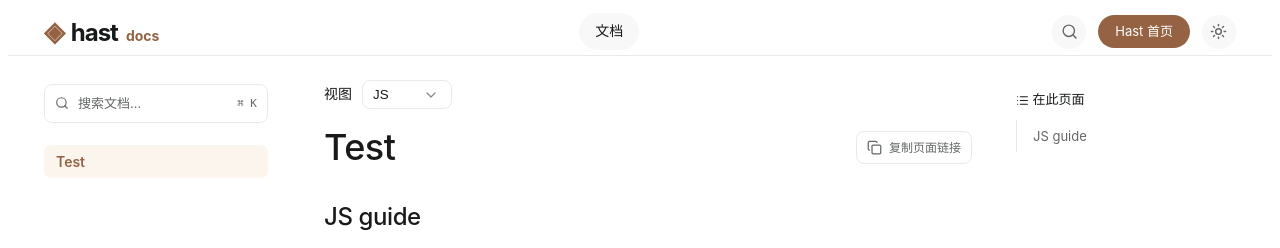
Scenario: frontend documentation behavior › automatically selects standalone views, hides duplicates and refreshes the TOC
Select "Python" in the dropdown named "选择文档视图" at x=407, y=94, box [362, 80, 452, 109]
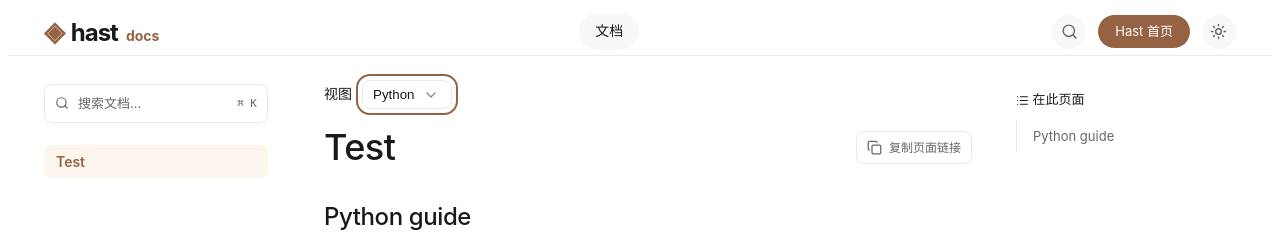
Expected: the navigation bar named "本页目录" reads "Python guide", [1016, 120, 1236, 152]
